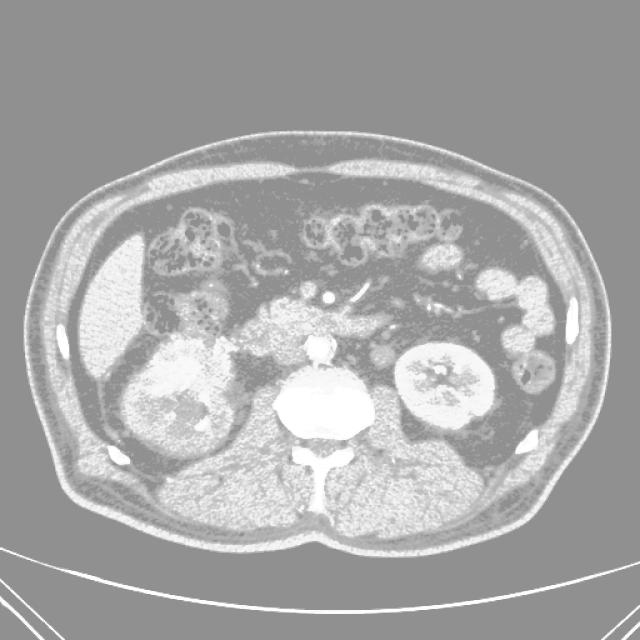TUMOR: (116, 324, 576, 480)
